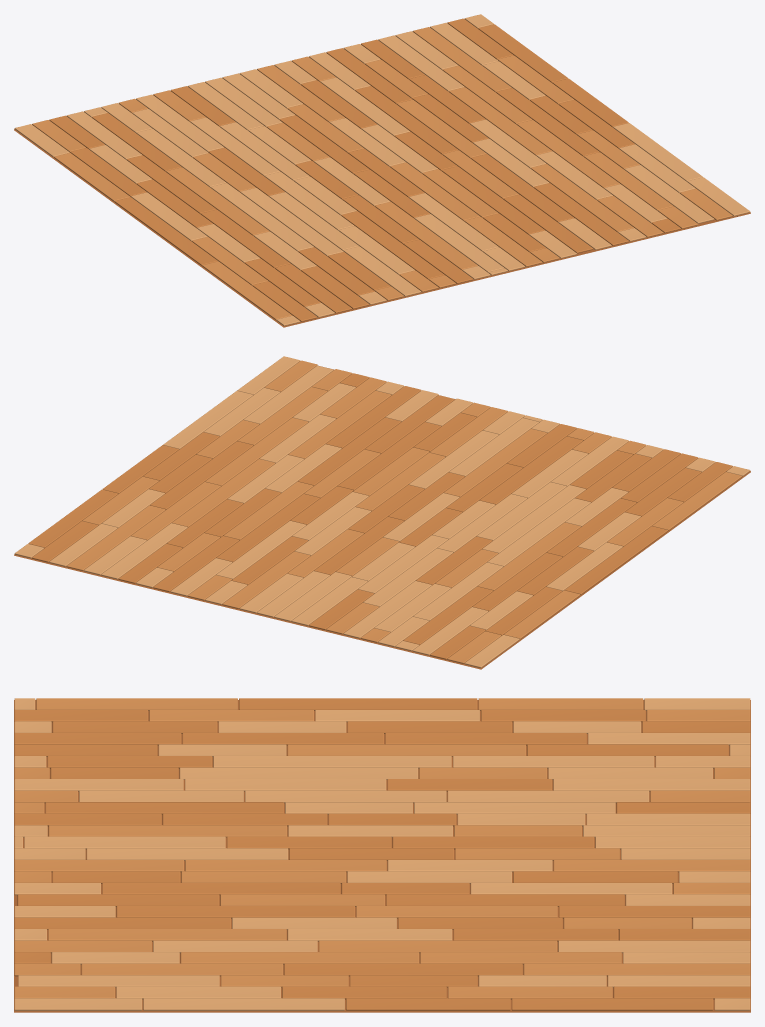
Rendered from UnitAFloor.fbx.
The picture shows the model from 3 angles, top to bottom: view 1: azimuth 30°, elevation 25°; view 2: azimuth 150°, elevation 25°; view 3: azimuth 270°, elevation 25°; orthographic projection. The views are drawn at different scales.
Visible parts, largest first — view 1: UnitAFloor mesh; view 2: UnitAFloor mesh; view 3: UnitAFloor mesh.
Boxes of the visible parts, x1,y1,x2,y2 form: UnitAFloor mesh: (14,14,750,327); UnitAFloor mesh: (14,356,750,669); UnitAFloor mesh: (14,698,750,1012).
Size of the model in its own units: 10 by 0.05 by 10.
